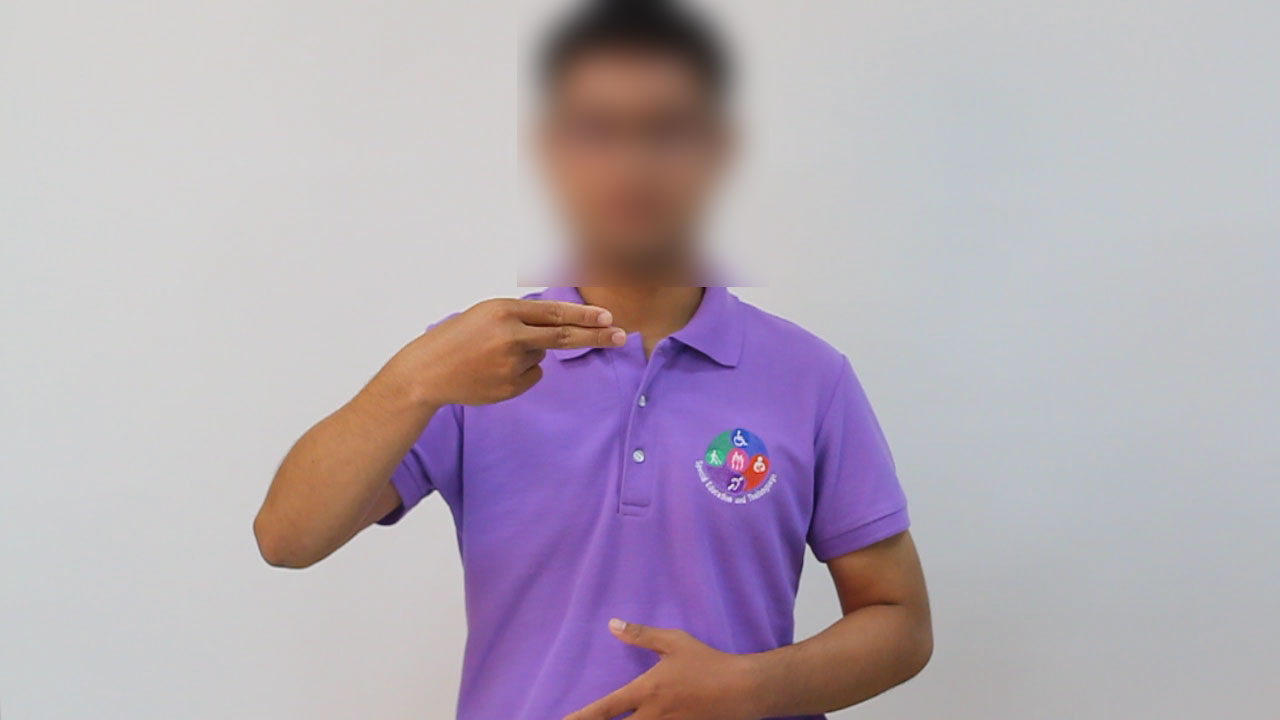hor: (386, 286, 638, 418)
